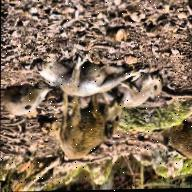boar: (18, 51, 130, 99), (47, 89, 129, 154), (112, 71, 164, 109)
